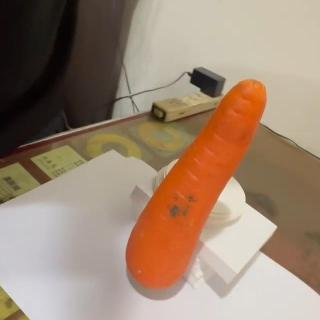carrot: (124, 78, 268, 292)
